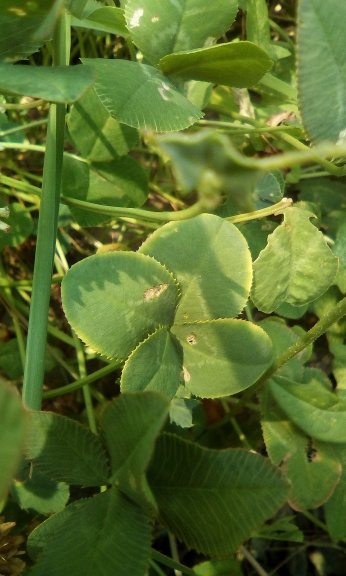4leaf: (59, 211, 274, 411)
